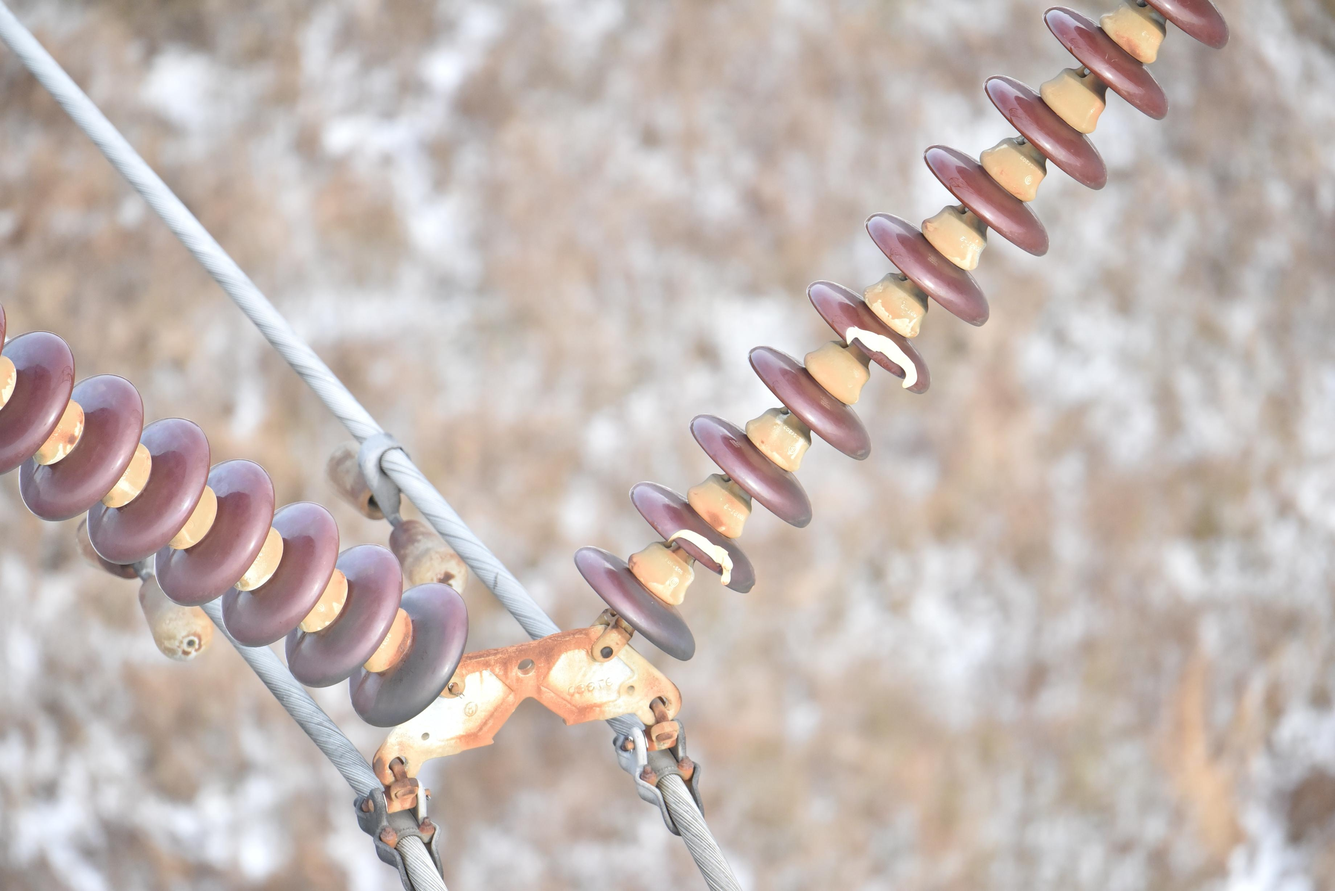damaged: (837, 311, 934, 399), (655, 521, 757, 589)
hammer: (329, 427, 472, 590), (76, 512, 219, 666)
insulator: (574, 0, 1231, 662), (0, 299, 467, 724)
